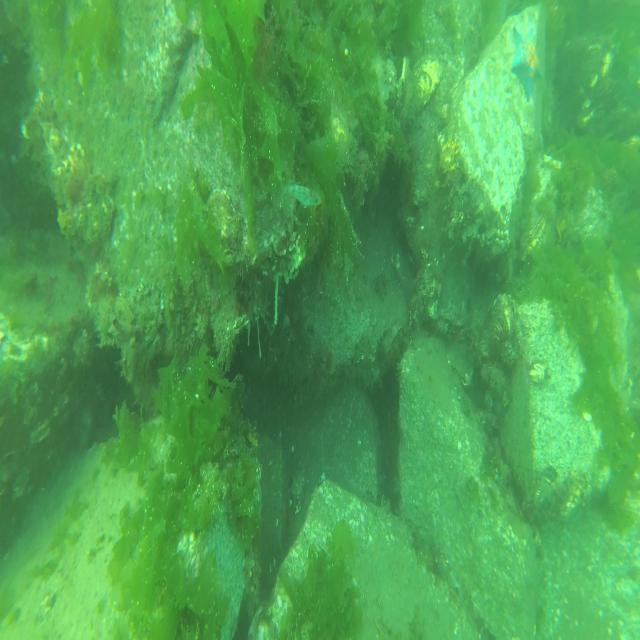starfish: (510, 24, 540, 103)
